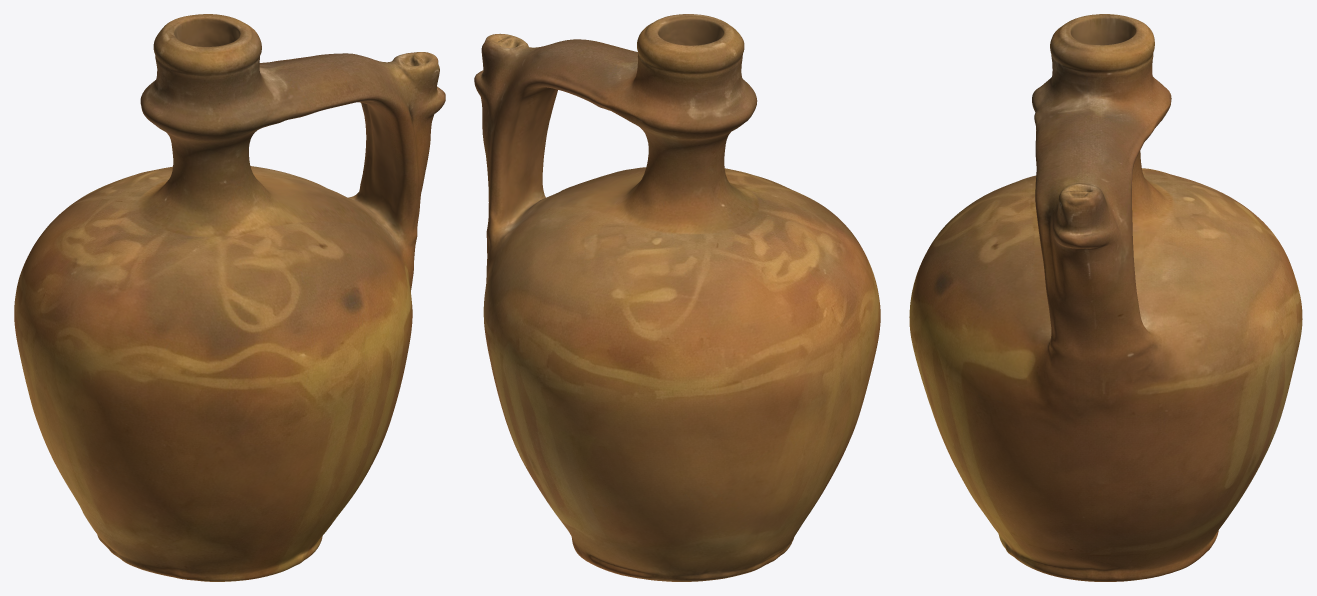
The model's file is testija.glb.
3 views of the same model, side by side, from view 1: azimuth 30°, elevation 25°; view 2: azimuth 150°, elevation 25°; view 3: azimuth 270°, elevation 25° (orthographic).
Size of the model in its own units: 1.51 by 1.9 by 1.34.
Materials: 1 (1 with a texture image).
